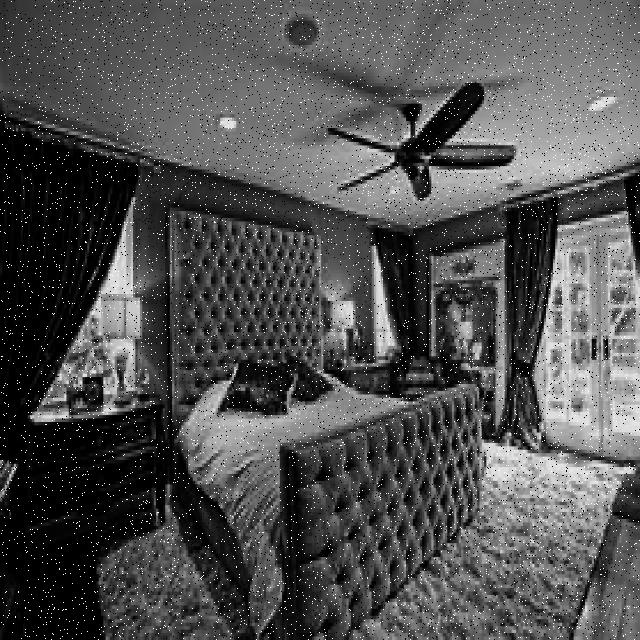bed: (174, 357, 375, 546)
